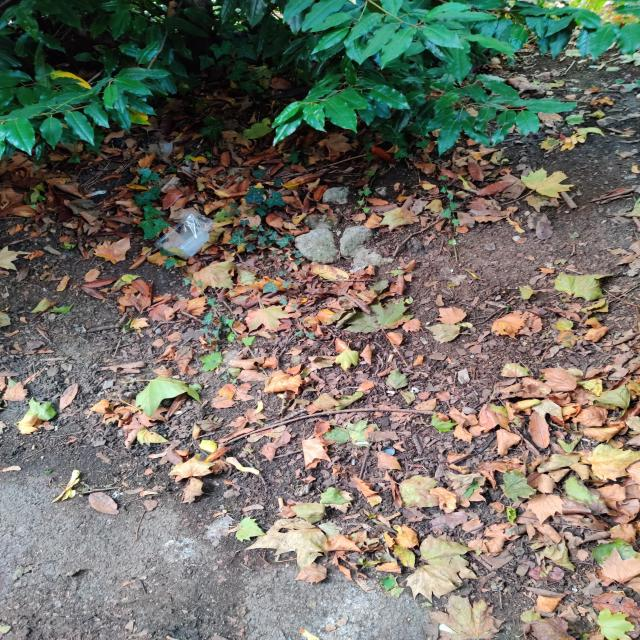litter: (154, 214, 212, 260)
